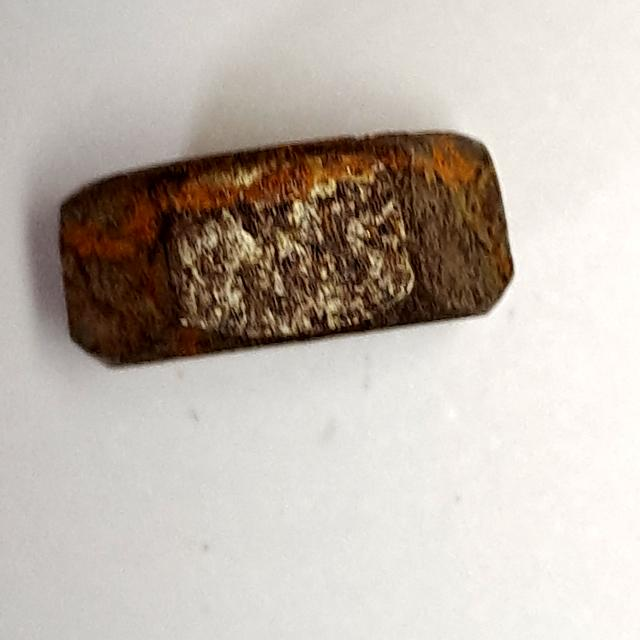Side_Rust: (45, 113, 529, 386)
